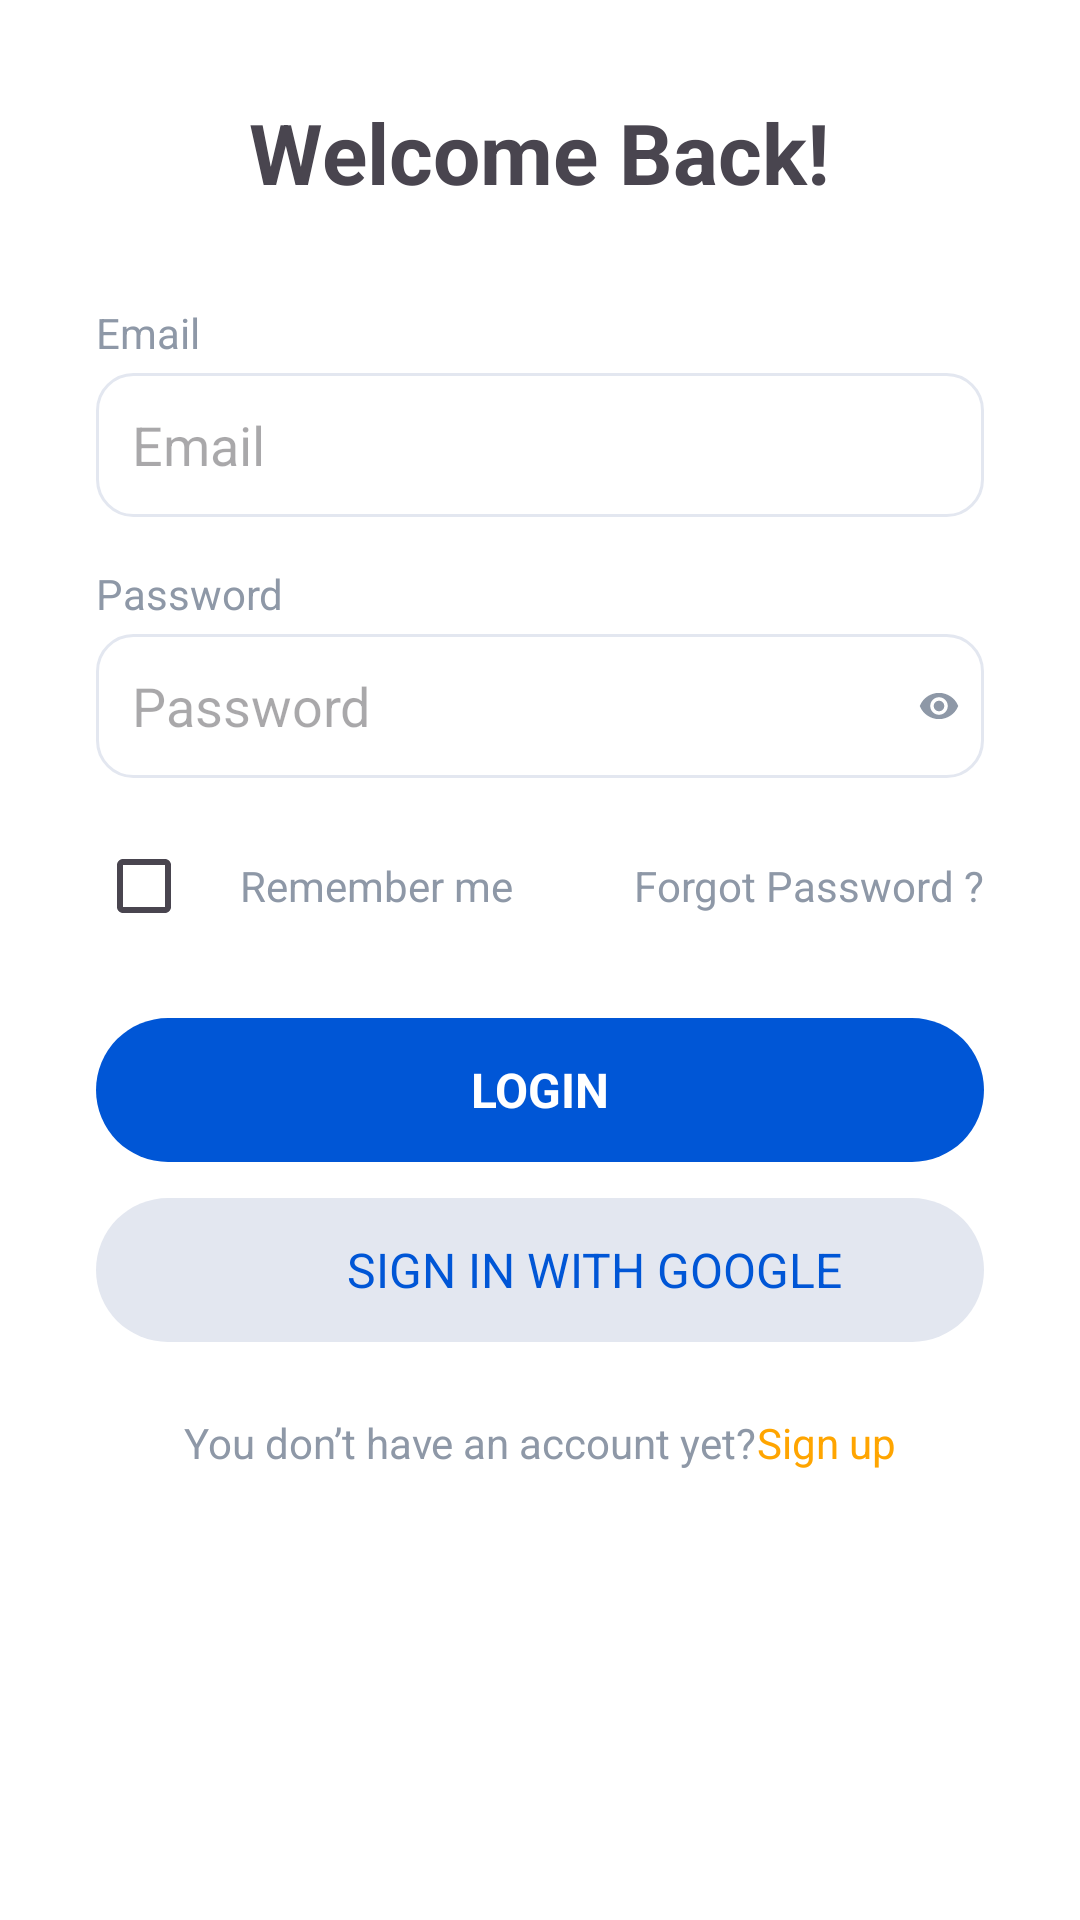

Where to tap for icons on this 1080x1920 app screen, as (x=x, y=y):
eye: (x=939, y=706)
